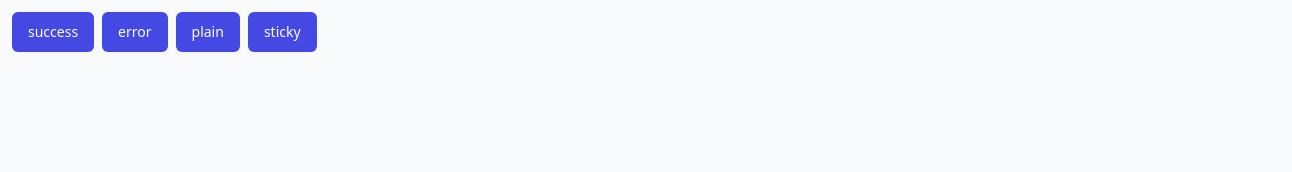
Scenario: Toast › dismiss button removes toast
Step 1. Click the button "success" → (53, 32), box [12, 12, 94, 52]
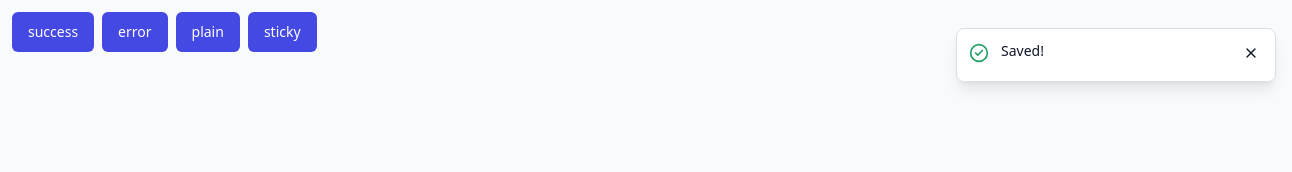
Expected: the text "Saved!" is shown, [1001, 41, 1044, 60]
Step 2. Click the button named "Dismiss notification" → (1251, 53), box [1235, 37, 1267, 69]
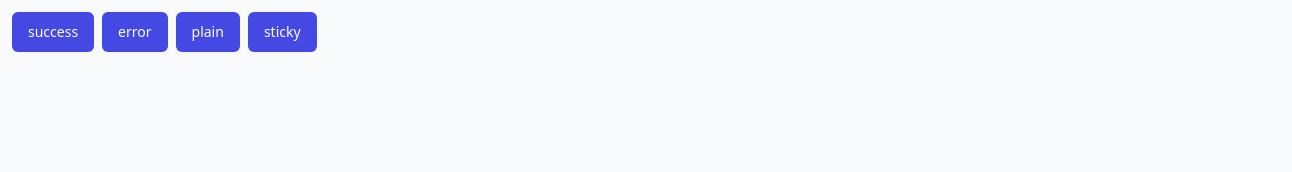
Expected: the text "Saved!" is gone
